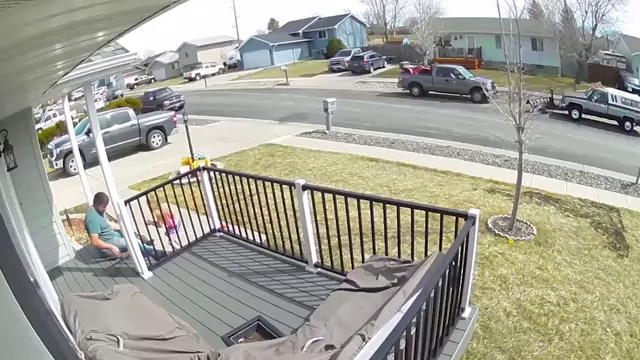face: (97, 200, 107, 214)
